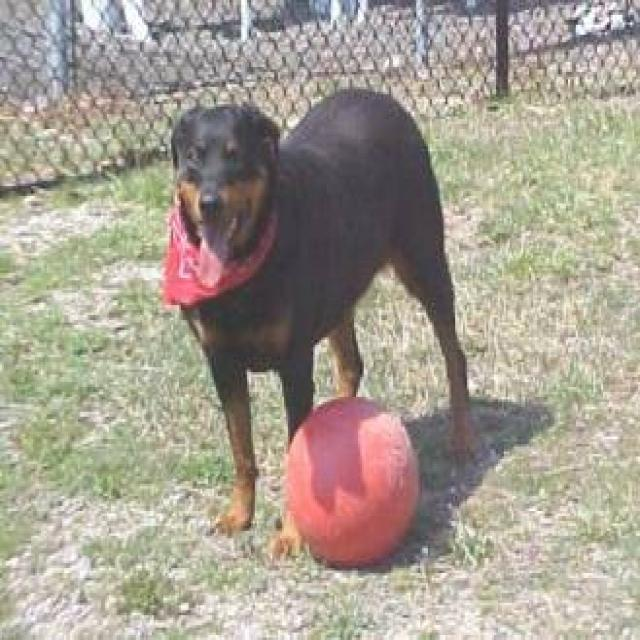Dog: (165, 90, 280, 291)
